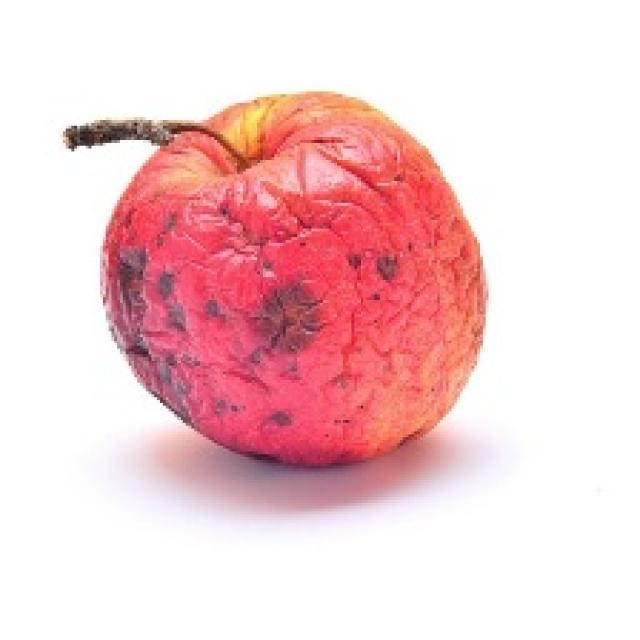rotten_apple: (102, 95, 485, 462)
